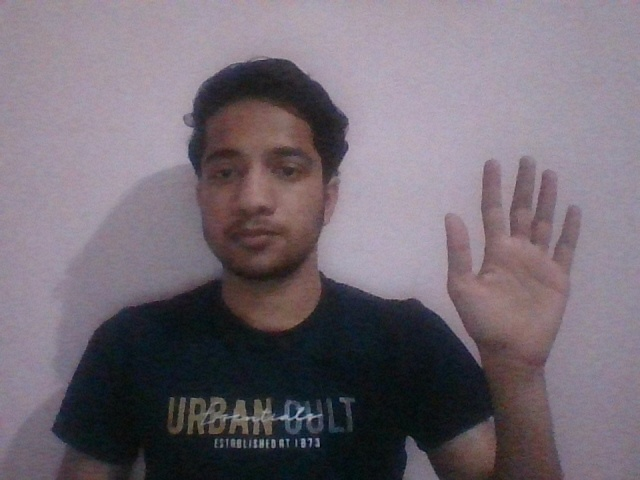Hello: (438, 143, 585, 365)
